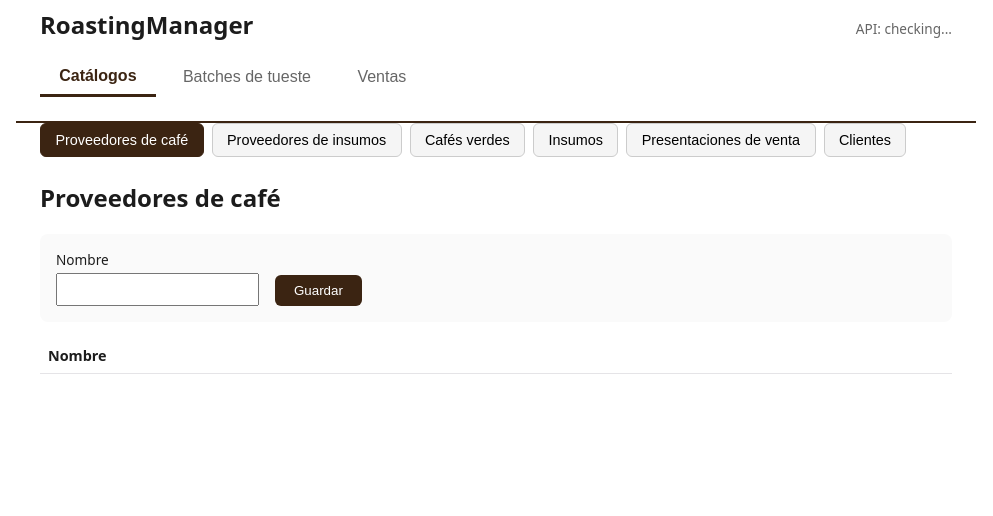
Test: App › navigates to the sales section
Click the button "Ventas".
click(382, 77)  # box [338,57,426,97]
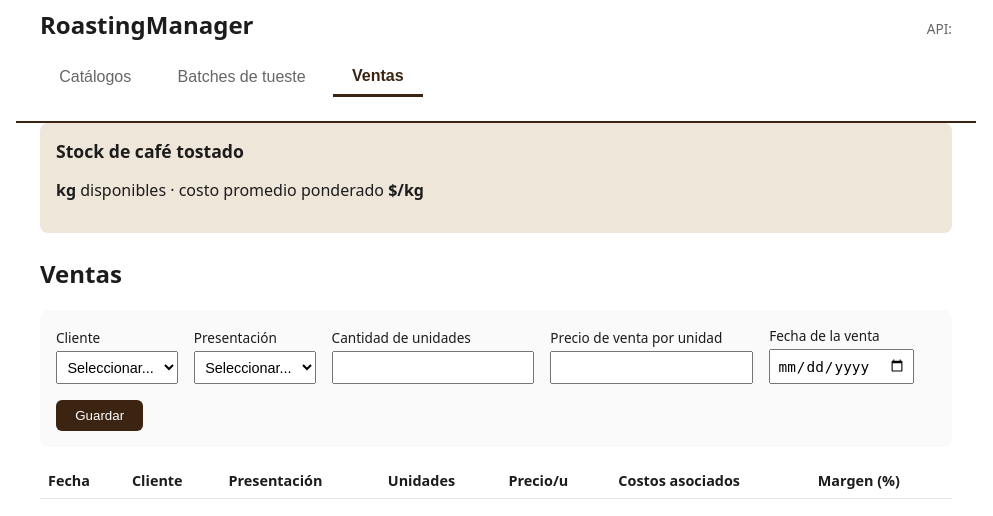
Check: the heading "Ventas" is shown, box [40,257,122,290]
